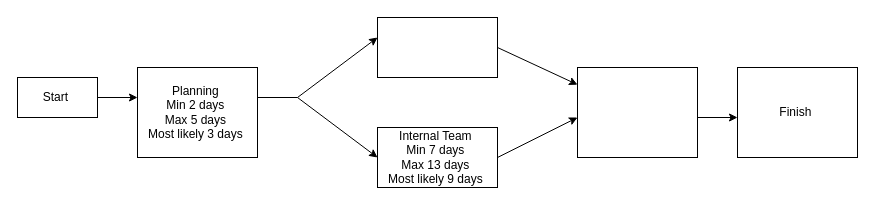
This 875x205 diagram has some shape labels left out. The centre of each missing label's shape, as x and y in pixels:
Training & Roll out 2 days -- 75% 3 days --25 %: (637,112)
Vendor Min 8 days Max 16 days Most likely 10 days: (437,47)
